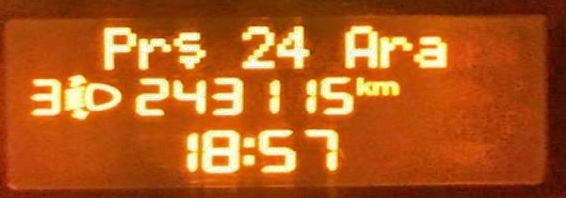1: (265, 76, 285, 117), (182, 128, 198, 175), (302, 76, 317, 116)
2: (239, 22, 275, 69), (133, 76, 168, 119)
3: (211, 74, 245, 116), (28, 74, 61, 117)
4: (276, 21, 313, 71), (171, 76, 207, 113)
5: (256, 126, 297, 173), (319, 73, 351, 116)
7: (302, 125, 338, 172)
8: (199, 126, 237, 176)
X: (98, 21, 135, 69), (173, 27, 212, 70), (342, 24, 377, 69), (412, 33, 448, 69), (137, 35, 171, 71), (377, 31, 409, 68), (239, 131, 255, 170), (370, 77, 401, 96), (353, 73, 369, 98)
